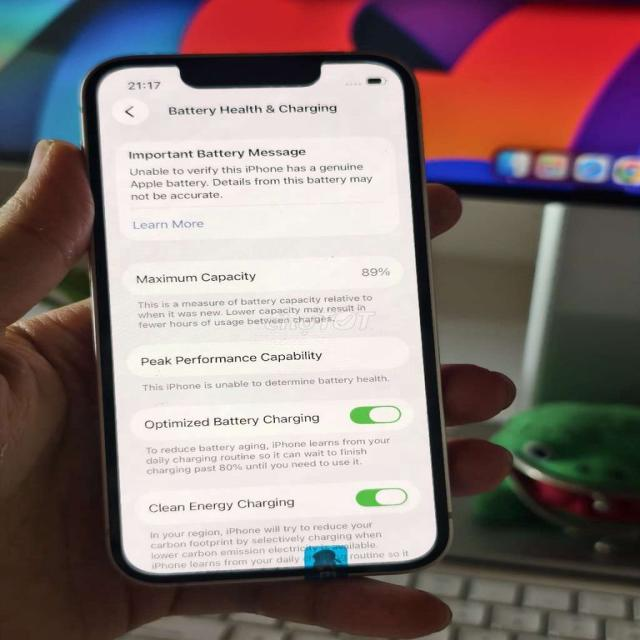gen_12_13: (87, 48, 452, 585)
